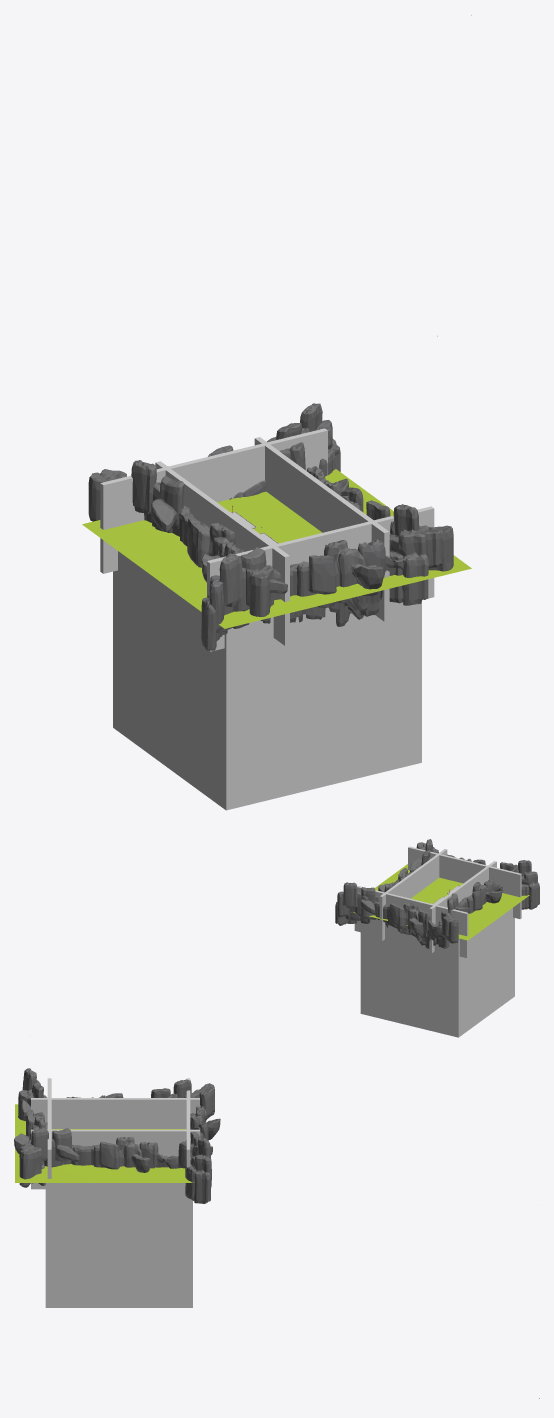
The model's file is Golf_3_hole.glb.
The picture shows the model from 3 angles, top to bottom: view 1: azimuth 30°, elevation 25°; view 2: azimuth 150°, elevation 25°; view 3: azimuth 270°, elevation 25°; orthographic projection. The views are drawn at different scales.
Visible parts, largest first — view 1: box.007, Plane, box.004, box.002, box.001, box.003; view 2: box.007, Plane, box.003, box.002, box.004, box.001; view 3: box.007, Plane, box.001, box.002, box.003, box.004.
Part boxes in pixels (x1,y1,x2,y2): box.007: [113, 551, 421, 810]; Plane: [82, 403, 471, 650]; box.004: [100, 428, 327, 573]; box.002: [254, 437, 389, 621]; box.001: [155, 461, 289, 645]; box.003: [207, 506, 434, 651]; box.007: [360, 908, 514, 1037]; Plane: [335, 839, 539, 948]; box.003: [408, 846, 521, 918]; box.002: [379, 849, 447, 940]; box.004: [354, 885, 468, 957]; box.001: [429, 861, 496, 953]; box.007: [45, 1183, 192, 1307]; Plane: [14, 1068, 220, 1203]; box.001: [31, 1098, 199, 1128]; box.002: [31, 1129, 199, 1189]; box.003: [47, 1078, 51, 1207]; box.004: [186, 1078, 190, 1207].
Bounding box in the file's own units: 169 × 90.03 × 179.
Materials: 2 (2 with a texture image).
